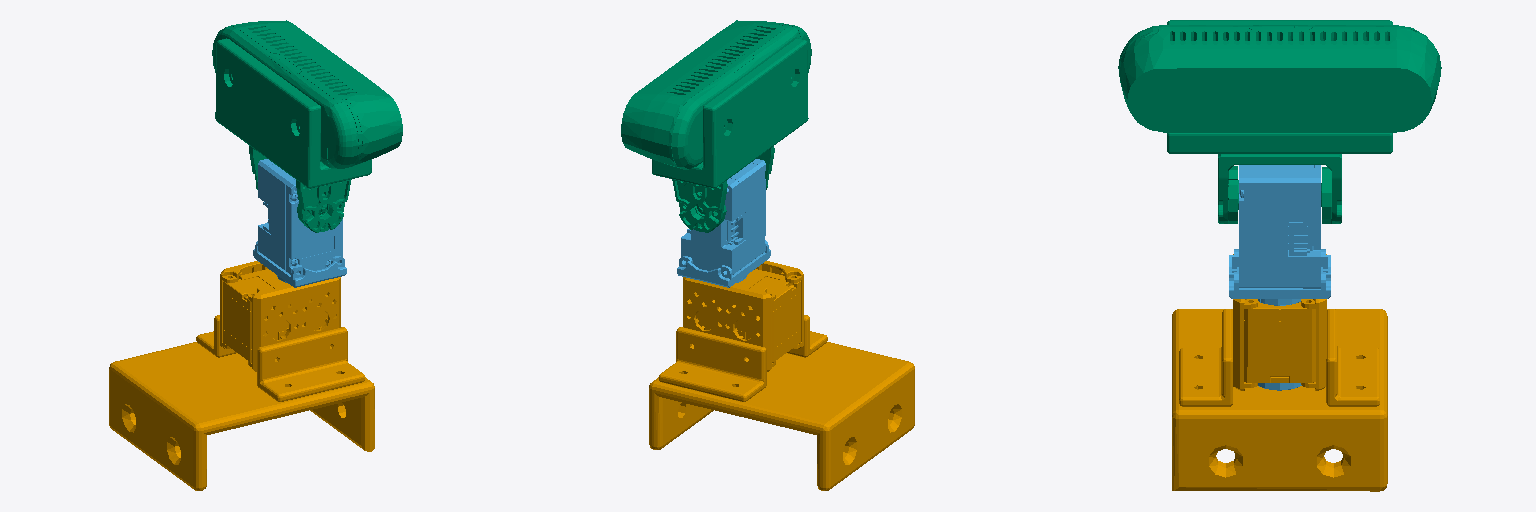
robot.urdf — openarm_d435i_head_v1:
<?xml version="1.0"?>
<!--
  openarm D435i pan/tilt head — head_v1 (Fusion "rl_ws / simulation setting", 2026-09-05).
  GENERATED by tools/import_head_v1.py from hdgp/assets/simulation_setting/head_v1 — do not edit.

  Links (same names as the previous vendor head so downstream naming is unchanged):
    base_link   : base plate + brackets + pan servo body            (frame = Fusion origin,
                  = base plate bottom +20 mm)
    mid_link    : pan horn/platform + tilt servo body               (rotated by PAN, XC330 #1)
    camera_link : tilt horn + U bracket + camera plate + D435i      (rotated by TILT, XC330 #2)
                  = USD tilt_link + camera_link merged (fixed joint at identity)

  Kinematics (axis points read from head_v1.usda joints, meters):
    joint_pan  : base_link -> mid_link   , axis 0 0 -1 , at 0.022500 0.000034 0.035603 in base frame
    joint_tilt : mid_link  -> camera_link, axis 0 1 0 , at 0.000000 -0.011580 0.030400 in mid frame
  Optical frames (in camera_link frame, +X viewing, +Z up; from head_v1.usda camera_link):
    color  0.011500 0.000096 0.036327
    depth  0.011500 0.029096 0.036327

  Meshes are LINK-LOCAL, meters (scale 1). Inertials from Fusion mass properties
  (servo/RealSense masses, see the head_v1 README). Joint limits/effort/velocity are
  placeholders carried over from the previous head (XC330 range not modelled).
-->
<robot name="openarm_d435i_head_v1">

  <link name="base_link">
    <inertial>
      <origin xyz="0.007133 0.000007 0.009363" rpy="0 0 0"/>
      <mass value="0.063863"/>
      <inertia ixx="2.536401e-05" ixy="-2.286778e-09" ixz="-5.559693e-06"
               iyy="4.010655e-05" iyz="-1.190024e-08" izz="4.044524e-05"/>
    </inertial>
    <visual>
      <origin xyz="0 0 0" rpy="0 0 0"/>
      <geometry><mesh filename="../meshes/visual/head_base.obj" scale="1 1 1"/></geometry>
    </visual>
    <collision>
      <origin xyz="0 0 0" rpy="0 0 0"/>
      <geometry><mesh filename="../meshes/collision/head_base.stl" scale="1 1 1"/></geometry>
    </collision>
  </link>

  <joint name="joint_pan" type="revolute">
    <parent link="base_link"/>
    <child  link="mid_link"/>
    <origin xyz="0.022500 0.000034 0.035603" rpy="0 0 0"/>
    <axis xyz="0 0 -1"/>
    <limit lower="-1.570796" upper="1.570796" effort="1.0" velocity="6.0"/>
    <dynamics damping="0.02" friction="0.0"/>
  </joint>

  <link name="mid_link">
    <inertial>
      <origin xyz="0.000011 -0.000172 0.019373" rpy="0 0 0"/>
      <mass value="0.024281"/>
      <inertia ixx="5.591568e-06" ixy="-7.512955e-10" ixz="-2.098648e-10"
               iyy="5.311169e-06" iyz="3.032467e-09" izz="1.777183e-06"/>
    </inertial>
    <visual>
      <origin xyz="0 0 0" rpy="0 0 0"/>
      <geometry><mesh filename="../meshes/visual/head_mid.obj" scale="1 1 1"/></geometry>
    </visual>
    <collision>
      <origin xyz="0 0 0" rpy="0 0 0"/>
      <geometry><mesh filename="../meshes/collision/head_mid.stl" scale="1 1 1"/></geometry>
    </collision>
  </link>

  <joint name="joint_tilt" type="revolute">
    <parent link="mid_link"/>
    <child  link="camera_link"/>
    <origin xyz="0.000000 -0.011580 0.030400" rpy="0 0 0"/>
    <axis xyz="0 1 0"/>
    <limit lower="-1.570796" upper="1.570796" effort="1.0" velocity="6.0"/>
    <dynamics damping="0.02" friction="0.0"/>
  </joint>

  <link name="camera_link">
    <inertial>
      <origin xyz="-0.000306 0.011751 0.031655" rpy="0 0 0"/>
      <mass value="0.068074"/>
      <inertia ixx="4.199895e-05" ixy="-1.228978e-07" ixz="-4.176987e-07"
               iyy="1.238142e-05" iyz="-7.599836e-08" izz="3.826488e-05"/>
    </inertial>
    <visual>
      <origin xyz="0 0 0" rpy="0 0 0"/>
      <geometry><mesh filename="../meshes/visual/head_camera.obj" scale="1 1 1"/></geometry>
    </visual>
    <collision>
      <origin xyz="0 0 0" rpy="0 0 0"/>
      <geometry><mesh filename="../meshes/collision/head_camera.stl" scale="1 1 1"/></geometry>
    </collision>
  </link>

</robot>

--- Facts derived from the render (not from the file) ---
Views: 3 orthographic renders of the robot side by side, from view 1: azimuth 30°, elevation 25°; view 2: azimuth 150°, elevation 25°; view 3: azimuth 270°, elevation 25°.
Model openarm_d435i_head_v1 with 3 links and 2 joints (2 revolute), rooted at base_link, posed every joint at zero.
Visible links, largest first — view 1: base_link, camera_link, mid_link; view 2: base_link, camera_link, mid_link; view 3: camera_link, base_link, mid_link.
Link boxes in pixels (box(x1,y1,x2,y2)): base_link: box(109, 261, 374, 490); camera_link: box(212, 20, 402, 232); mid_link: box(253, 159, 346, 287); base_link: box(649, 261, 914, 490); camera_link: box(621, 20, 811, 232); mid_link: box(677, 159, 770, 287); camera_link: box(1118, 20, 1441, 223); base_link: box(1172, 254, 1387, 491); mid_link: box(1229, 165, 1330, 390).
Bounding box of the posed robot: 0.0729 × 0.09 × 0.1351 m (x, y, z).
Meshes: 3 distinct files referenced, 3 mesh visuals loaded (3 OBJ).
